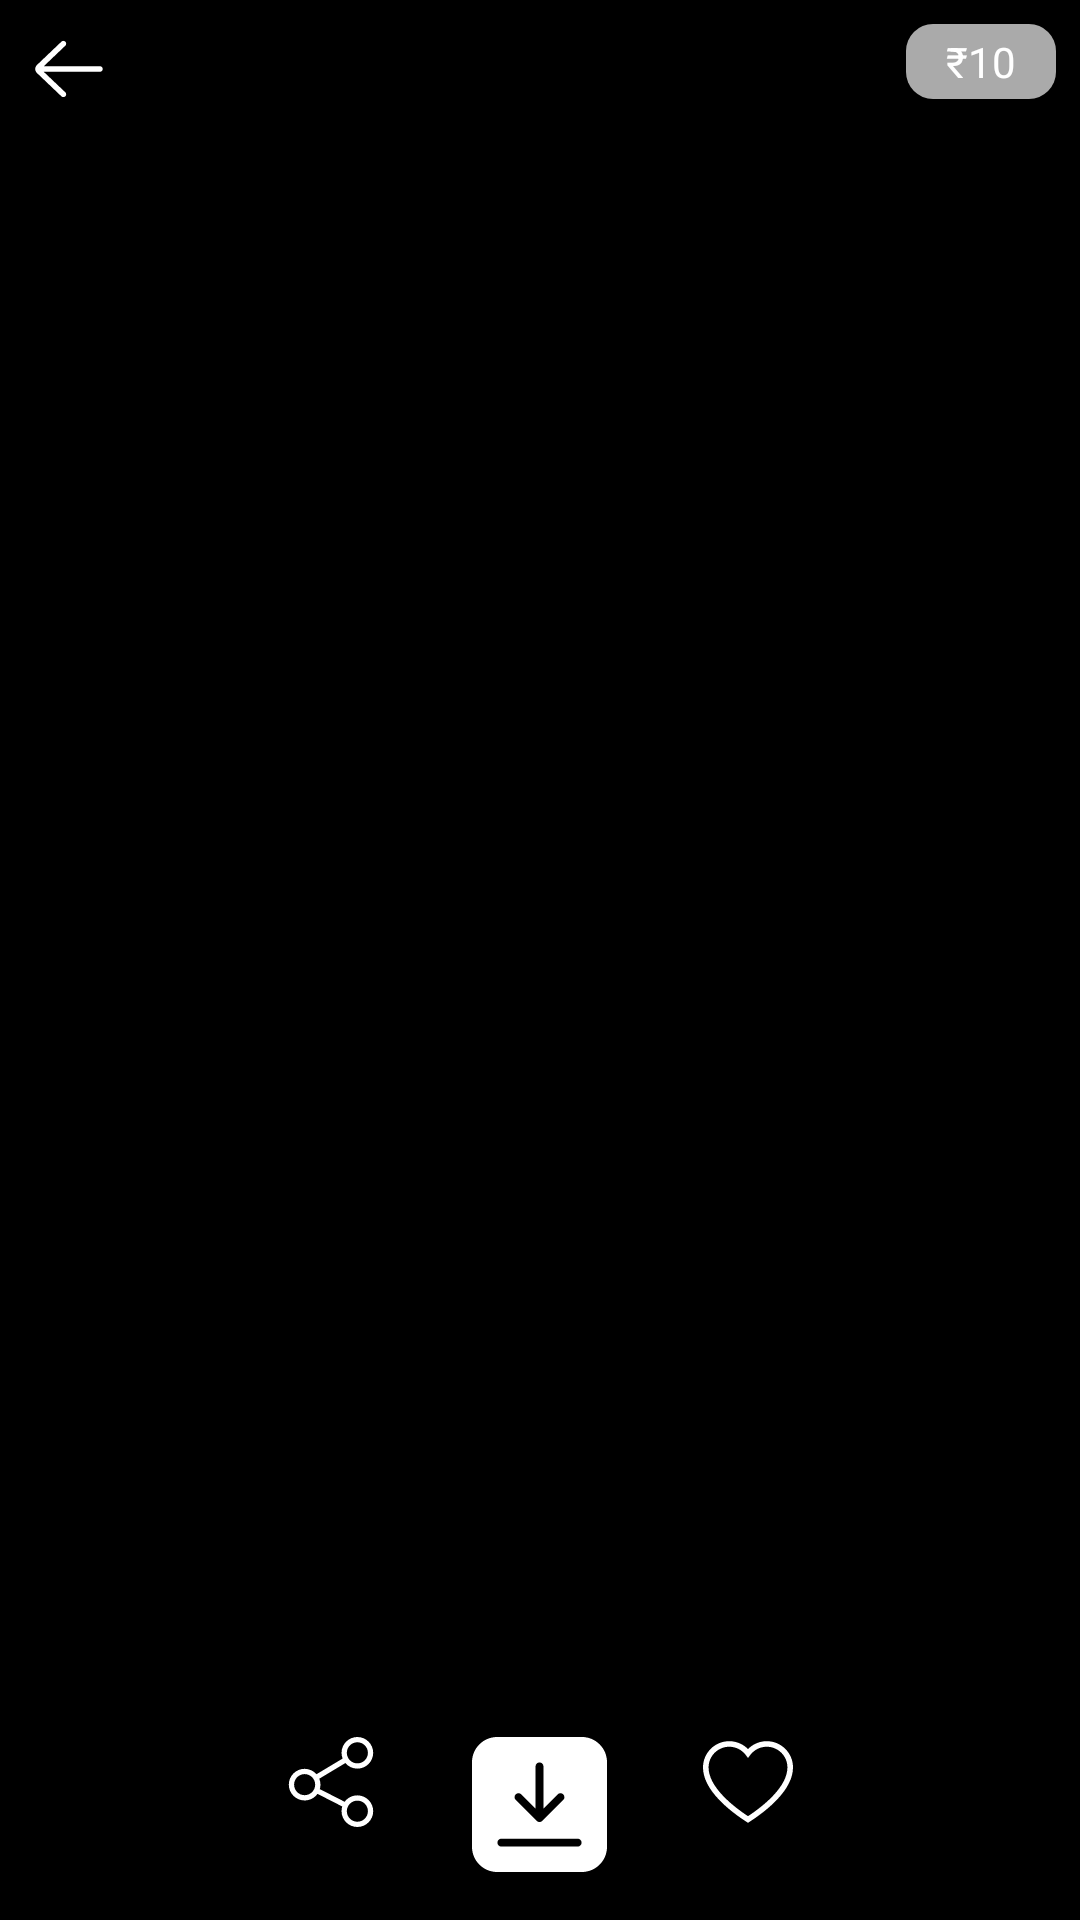

Screen size 1080x1920. Icon name, then its box in pixels as region(x1, y1, x2, y2):
back: region(35, 41, 103, 97)
downlaod: region(472, 1737, 607, 1872)
favourite: region(703, 1741, 793, 1823)
share: region(288, 1737, 374, 1827)
